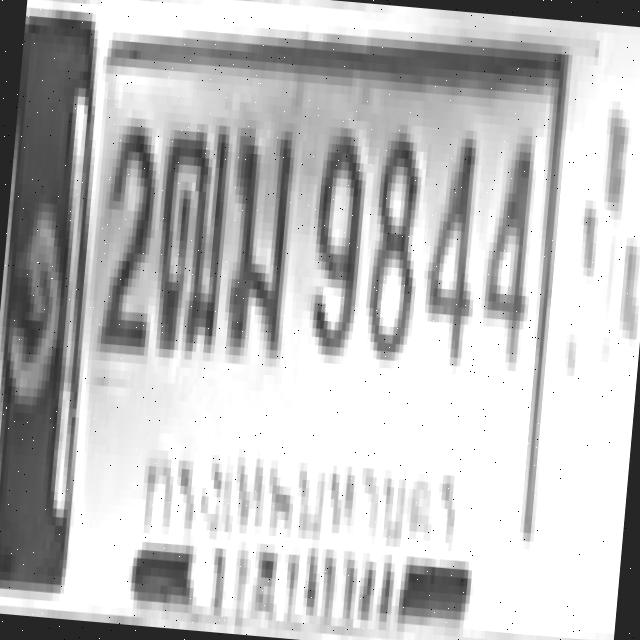2: (92, 116, 160, 347)
27ThorPhuThao: (144, 116, 230, 348)
4: (416, 127, 484, 358), (475, 132, 539, 362)
42MorMa: (218, 122, 296, 354)
8: (362, 122, 426, 352)
9: (303, 118, 367, 348)
Bangkok: (130, 419, 470, 569)
